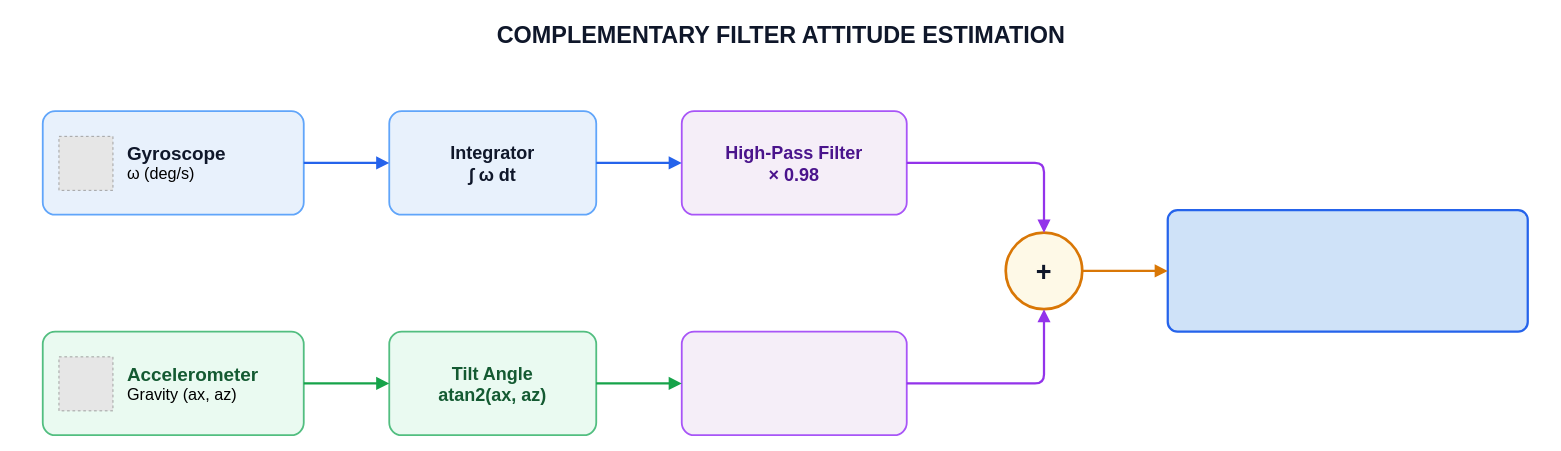
Some shapes in this 1561 by 451 pixel diagram are drawn without their labels. Grey dashed boxes stand in for pictures. The shapes that lost their labels are listed below. From the top down, each one's centre as x and y in pixels, then its label:
At (1347,270): "Attitude (Roll / Pitch) θ = 0.98·(θ + ω·dt) + 0.02·θ_accel".
At (793,383): "Low-Pass Filter × 0.02".
